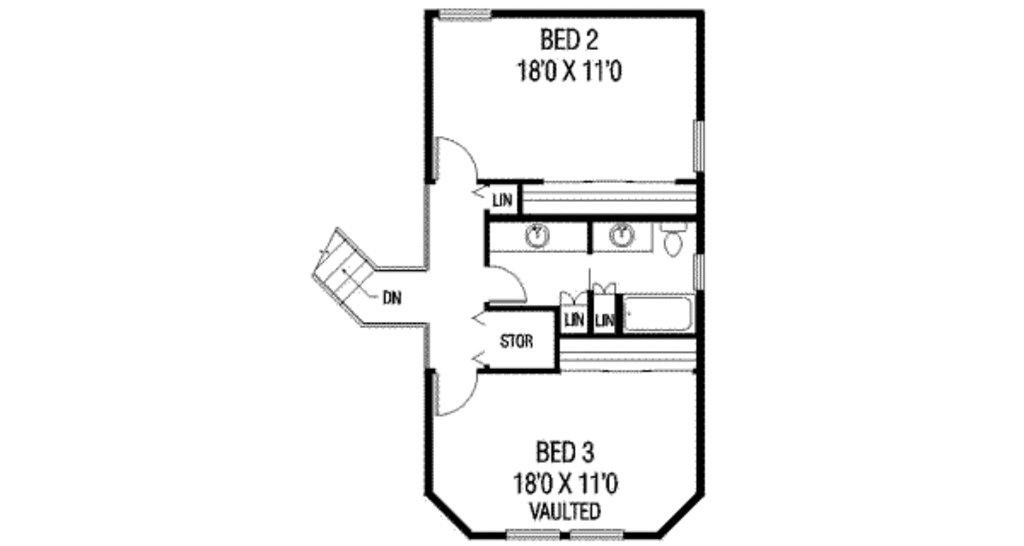door: (427, 133, 489, 184), (436, 366, 483, 417), (482, 261, 533, 307)
large_sink: (662, 220, 690, 263)
small_sink: (492, 219, 592, 255), (588, 219, 655, 252)
stairs: (303, 220, 410, 330)
tub: (618, 289, 695, 333)
window: (565, 521, 622, 546), (435, 4, 498, 26), (508, 525, 563, 544), (692, 254, 711, 294), (694, 117, 707, 175)
